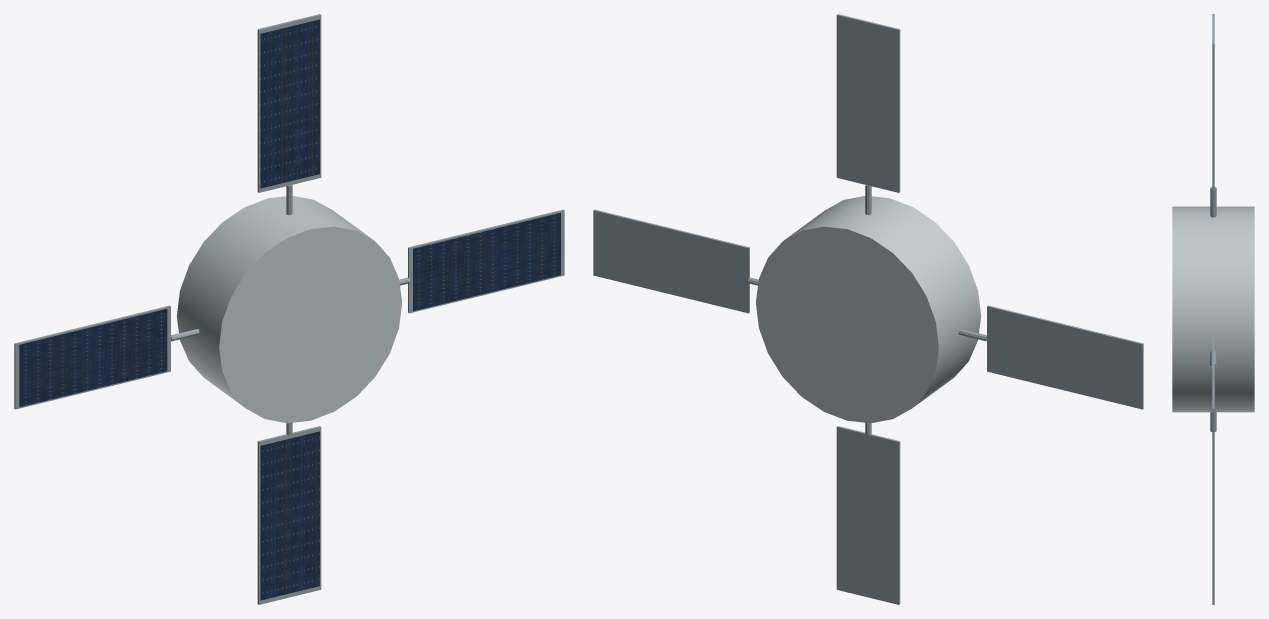
The model's file is ref-d-1-2016.glb.
3 renders of one model, left to right at view 1: azimuth 30°, elevation 25°; view 2: azimuth 150°, elevation 25°; view 3: azimuth 270°, elevation 25°, orthographic. The views are drawn at different scales.
Visible parts, largest first — view 1: Spacecraft body, Photovoltaic laminates (×4), Array frame (×4); view 2: Array frame (×4), Spacecraft body; view 3: Spacecraft body, Array frame (×3), Solar array drive.
Part boxes in pixels (box(x1,y1,x2,y2)): Spacecraft body: box(176, 196, 402, 423); Photovoltaic laminates (×4): box(19, 19, 560, 600); Array frame (×4): box(14, 14, 564, 604); Array frame (×4): box(593, 14, 1143, 604); Spacecraft body: box(755, 196, 981, 423); Spacecraft body: box(1172, 206, 1254, 412); Array frame (×3): box(1212, 14, 1214, 604); Solar array drive: box(1210, 187, 1216, 217).
Bounding box in the file's own units: 1.5 × 1.5 × 0.2.
3 materials, 1 textured.
